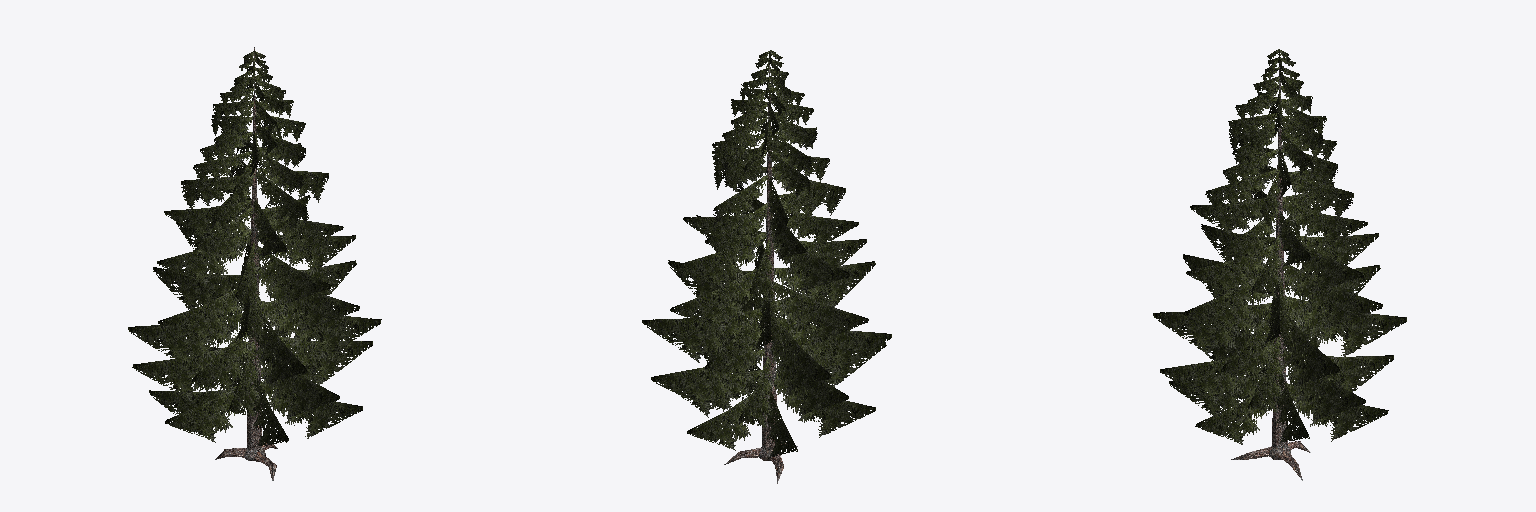
3 renders of one model, left to right at view 1: azimuth 30°, elevation 25°; view 2: azimuth 150°, elevation 25°; view 3: azimuth 270°, elevation 25°, orthographic.
Visible parts, largest first — view 1: Spruce; view 2: Spruce; view 3: Spruce.
Boxes of the visible parts, x1=… form: Spruce: x1=128, y1=47, x2=381, y2=480; Spruce: x1=642, y1=50, x2=891, y2=483; Spruce: x1=1153, y1=49, x2=1406, y2=480.
Bounding box in the file's own units: 6.15 × 11.53 × 6.64.
Materials: 2 (2 with a texture image).